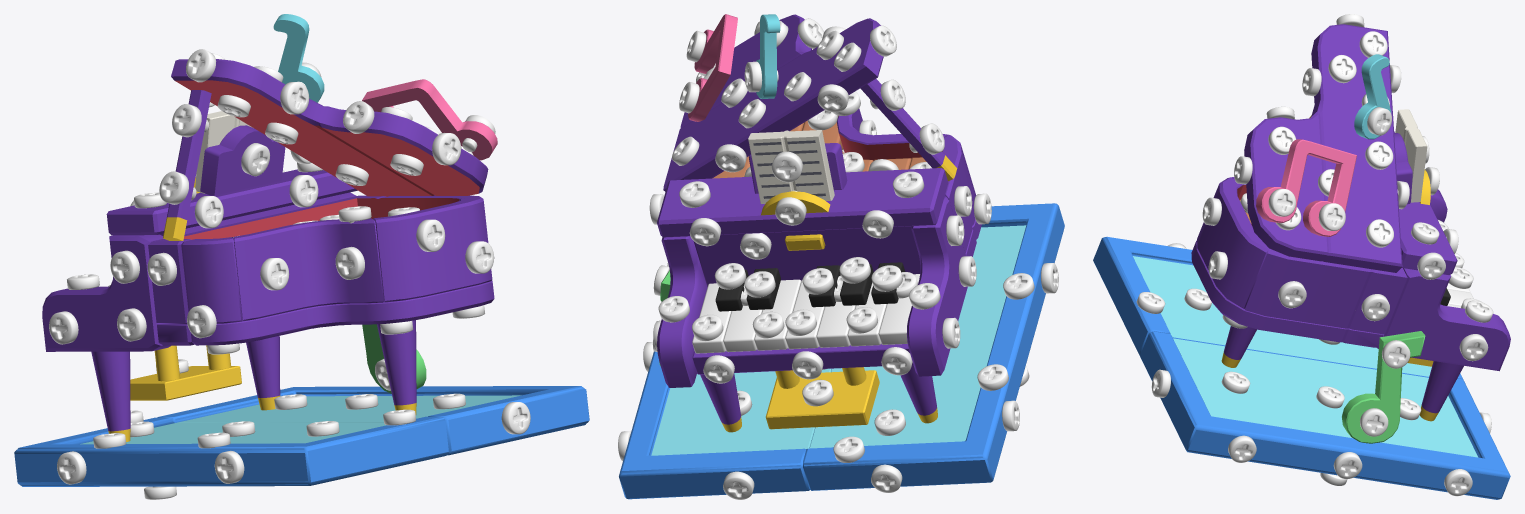
File: Piano_GroupD.fbx
The picture shows the model from 3 angles, left to right: view 1: azimuth 30°, elevation 25°; view 2: azimuth 150°, elevation 25°; view 3: azimuth 270°, elevation 25°; orthographic projection. The views are drawn at different scales.
Parts seen in each view (by area): view 1: Piano.010, Screw (×21), Piano.009, Piano.019, Piano.042, Piano.039, Piano.038, Piano.035, Piano.041, Piano.008, Piano.011, Piano.032 (+11 smaller); view 2: Screw (×49), Piano.010, Piano.019, Piano.009, Piano.008, Piano.018, Piano.035, Piano.011, Piano.006, Piano.034, Piano.017, Piano.003 (+20 smaller); view 3: Piano.019, Piano.009, Screw (×27), Piano.010, Piano.007, Piano.006, Piano.039, Piano.003, Piano.004, Piano.038, Piano.008, Piano.002 (+4 smaller).
Part boxes in pixels (x1,y1,x2,y2): Piano.010: [14, 416, 448, 486]; Screw (×21): [49, 49, 530, 484]; Piano.009: [171, 59, 488, 196]; Piano.019: [157, 386, 589, 455]; Piano.042: [233, 218, 383, 320]; Piano.039: [373, 196, 492, 302]; Piano.038: [157, 280, 494, 345]; Piano.035: [42, 234, 170, 351]; Piano.041: [148, 237, 242, 324]; Piano.008: [106, 169, 357, 235]; Piano.011: [130, 345, 241, 400]; Piano.032: [200, 125, 285, 195]; Screw (×49): [658, 18, 1058, 499]; Piano.010: [803, 203, 1064, 490]; Piano.019: [619, 351, 831, 499]; Piano.009: [663, 14, 883, 191]; Piano.008: [657, 168, 948, 237]; Piano.018: [693, 226, 920, 286]; Piano.035: [906, 196, 967, 376]; Piano.011: [765, 367, 879, 429]; Piano.006: [657, 236, 707, 387]; Piano.034: [748, 130, 834, 203]; Piano.017: [692, 344, 913, 374]; Piano.003: [688, 14, 737, 121]; Piano.019: [1140, 331, 1510, 499]; Piano.009: [1244, 24, 1402, 272]; Screw (×27): [1136, 31, 1493, 496]; Piano.010: [1093, 236, 1463, 379]; Piano.007: [1244, 249, 1407, 334]; Piano.006: [1377, 268, 1510, 371]; Piano.039: [1197, 177, 1270, 308]; Piano.003: [1256, 139, 1356, 236]; Piano.004: [1342, 331, 1425, 443]; Piano.038: [1191, 240, 1383, 347]; Piano.008: [1394, 131, 1457, 274]; Piano.002: [1354, 54, 1391, 139].
Size of the model in its own units: 11.13 by 11.51 by 10.58.
Materials: 2 (1 with a texture image).
